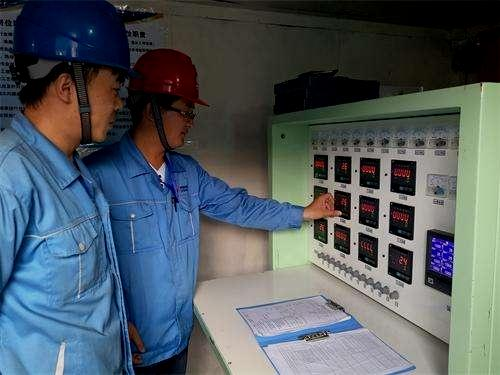helmet: (13, 0, 143, 143), (127, 46, 215, 149)
not_reflective: (0, 131, 112, 375), (106, 150, 202, 357)
